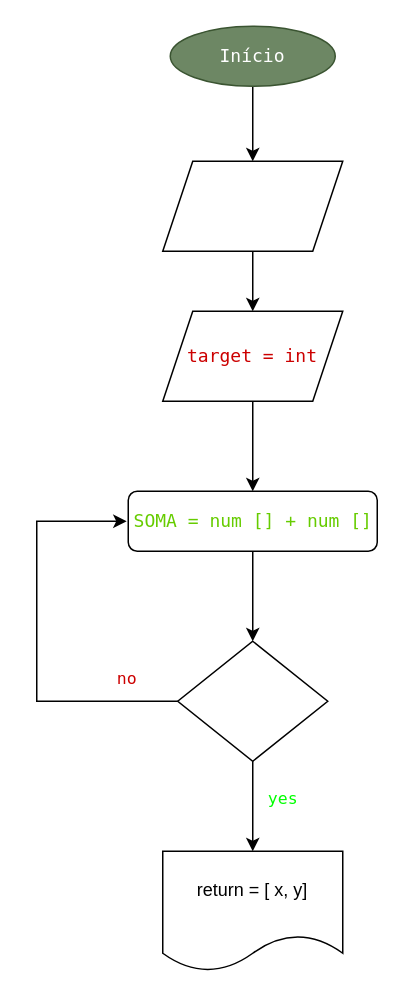
Image size: 414x998. Some labels were removed from this diagram. The centre of each missing label's shape, as x and y in pixels:
"nums = [ ]" belongs at (x=252, y=205).
"SOMA = target" belongs at (x=252, y=700).
